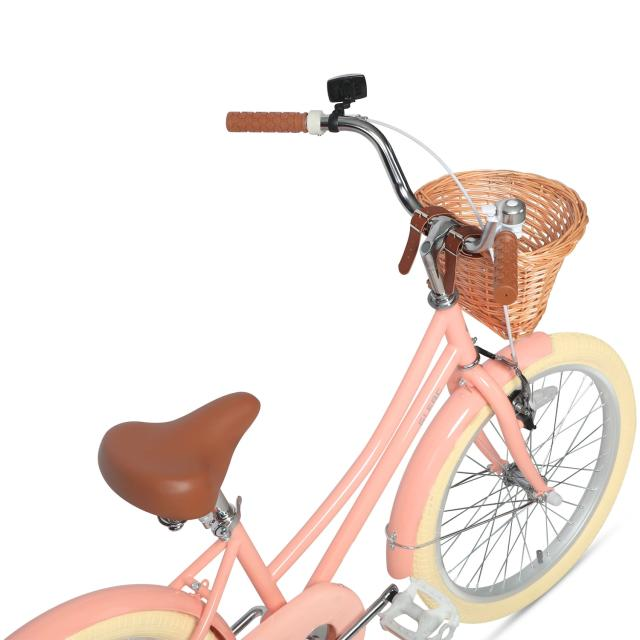urban-bike: (0, 71, 638, 640)
